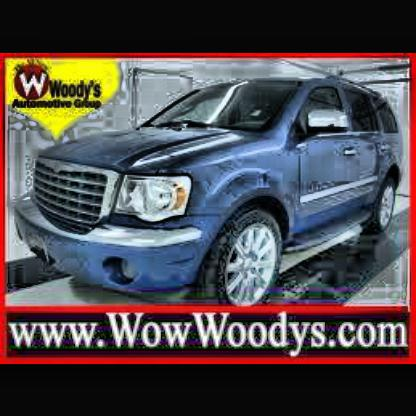Chrysler Aspen SUV 2009: (14, 77, 407, 317)
